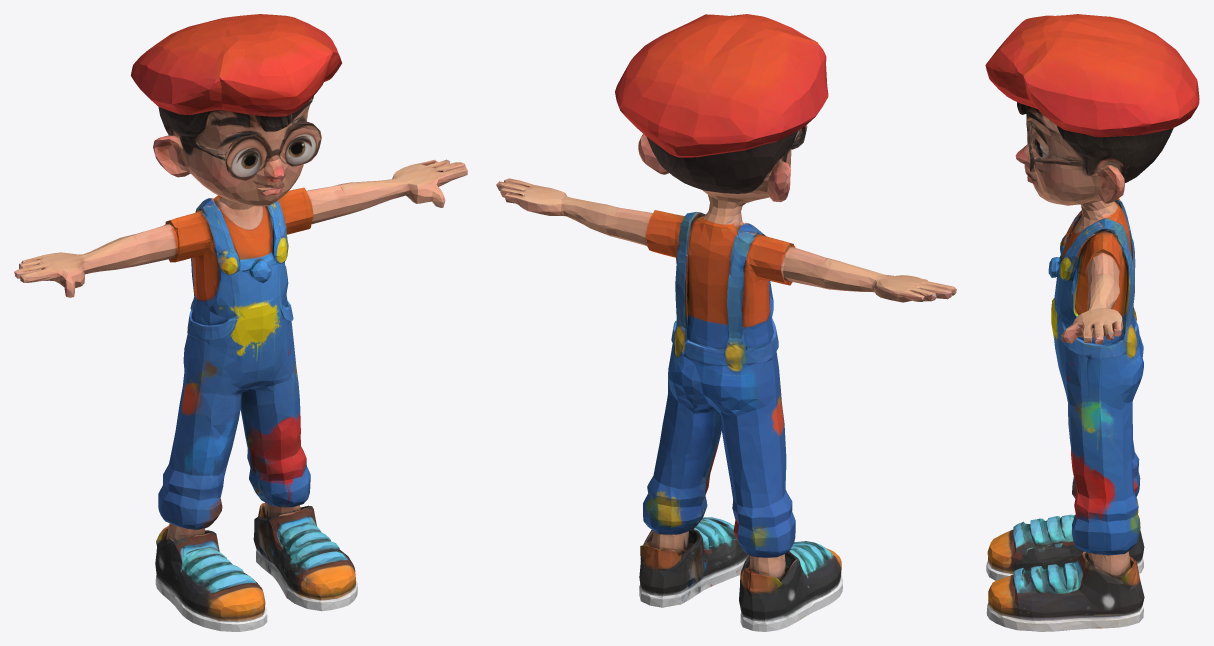
The model's file is pintor_genero_car_0609232329_texture.fbx.
3 renders of one model, left to right at view 1: azimuth 30°, elevation 25°; view 2: azimuth 150°, elevation 25°; view 3: azimuth 270°, elevation 25°, orthographic.
Parts seen in each view (by area): view 1: temp; view 2: temp; view 3: temp.
Part boxes in pixels (x1,y1,x2,y2): temp: (14, 14, 467, 631); temp: (496, 14, 956, 631); temp: (985, 14, 1199, 631).
Size of the model in its own units: 168 by 199 by 68.75.
Materials: 1 (1 with a texture image).
